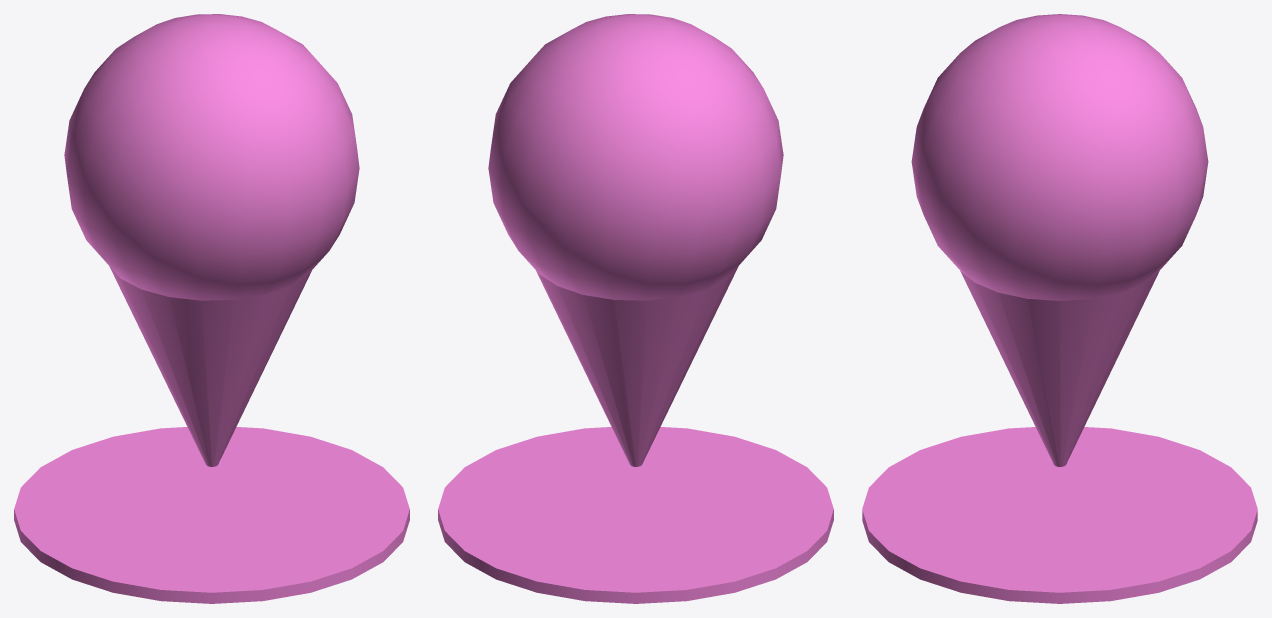
File: Item_RoutePin.fbx
The picture shows the model from 3 angles, left to right: view 1: azimuth 30°, elevation 25°; view 2: azimuth 150°, elevation 25°; view 3: azimuth 270°, elevation 25°; orthographic projection.
Visible parts, largest first — view 1: Pin; view 2: Pin; view 3: Pin.
Part boxes in pixels (x1,y1,x2,y2): Pin: [14, 14, 409, 603]; Pin: [438, 14, 833, 603]; Pin: [862, 14, 1257, 603].
Size of the model in its own units: 3.2 by 4.4 by 3.2.
Materials: 1 (1 with a texture image).
